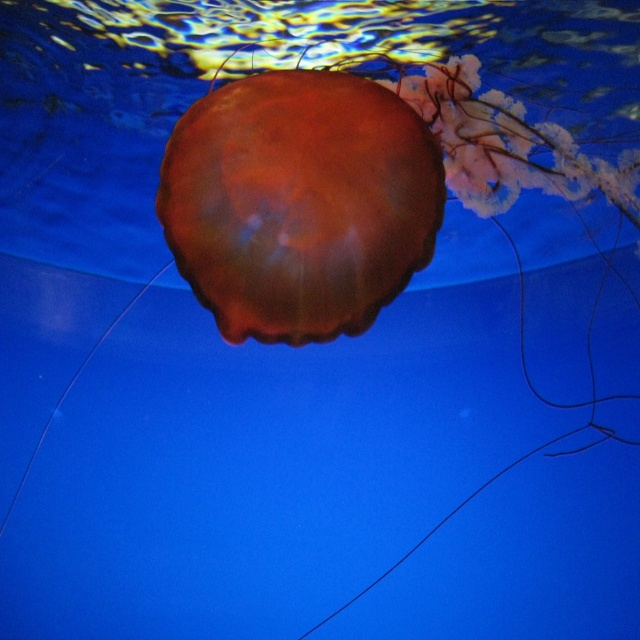Jellyfish: (153, 33, 640, 351)
